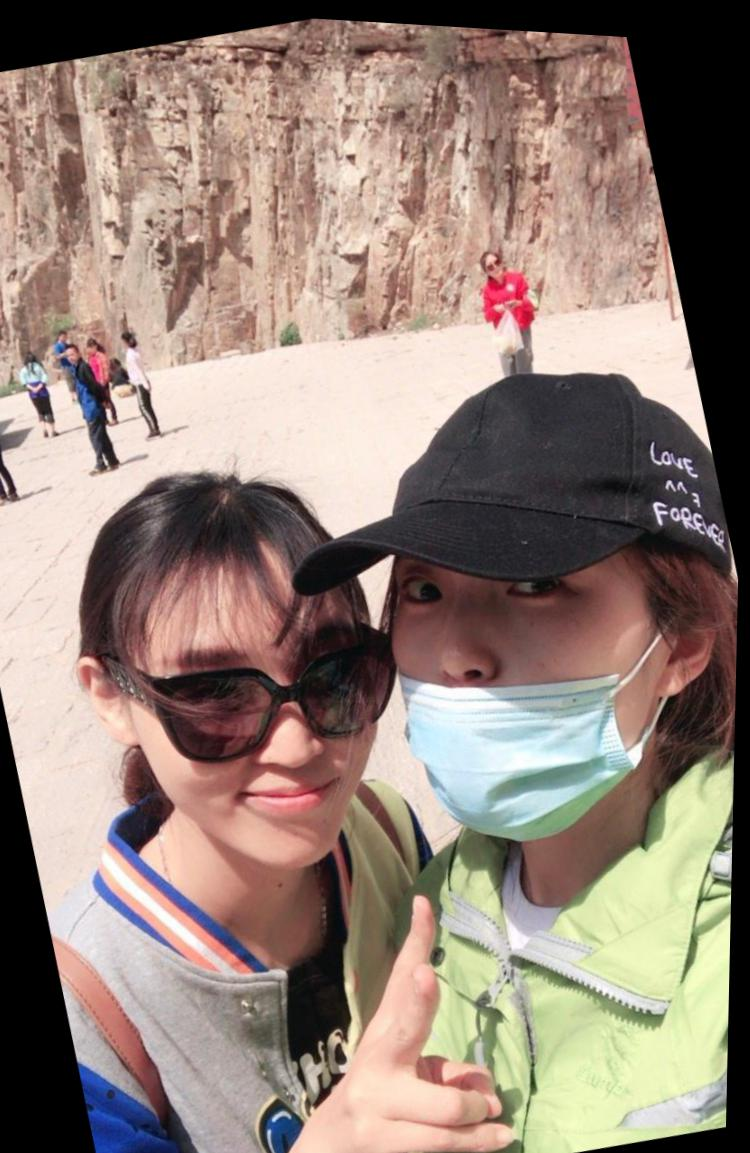NONE: (119, 601, 406, 903), (487, 249, 507, 273)
WRONG: (360, 461, 693, 854)
